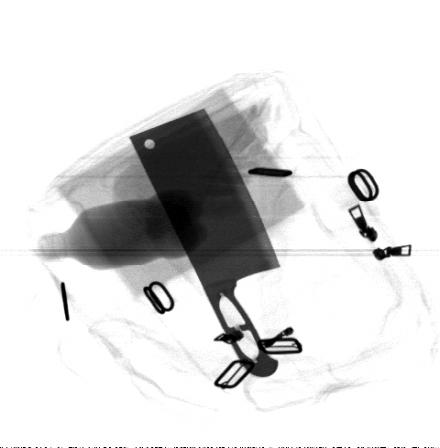Knife: (127, 107, 282, 378)
